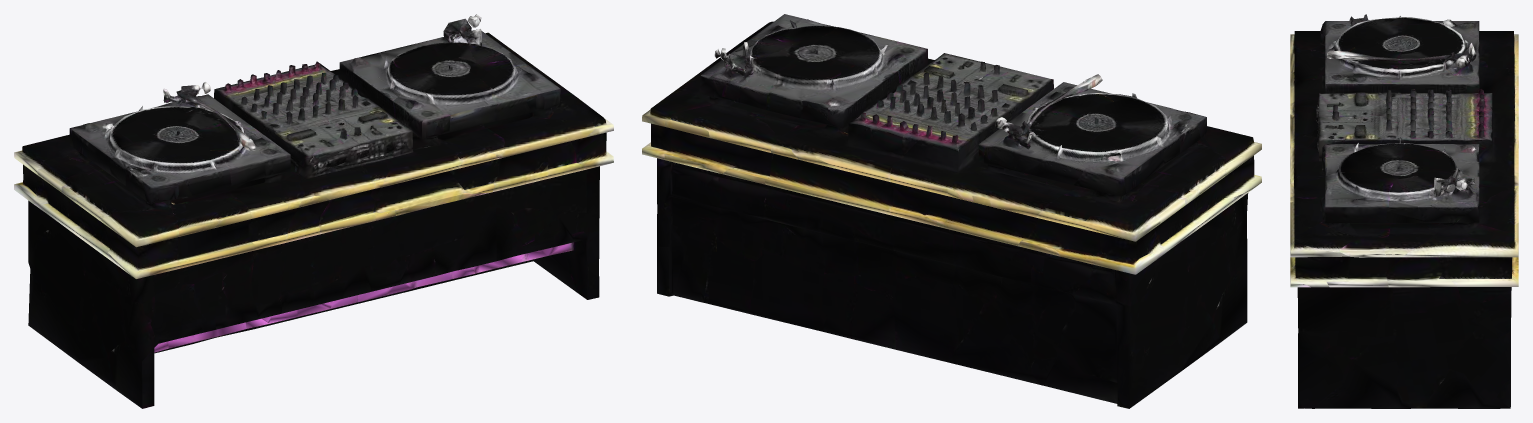
File: djbooth.glb
3 renders of one model, left to right at view 1: azimuth 30°, elevation 25°; view 2: azimuth 150°, elevation 25°; view 3: azimuth 270°, elevation 25°, orthographic. The views are drawn at different scales.
Bounding box in the file's own units: 1.9 × 0.8594 × 0.8416.
Materials: 1 (1 with a texture image).
